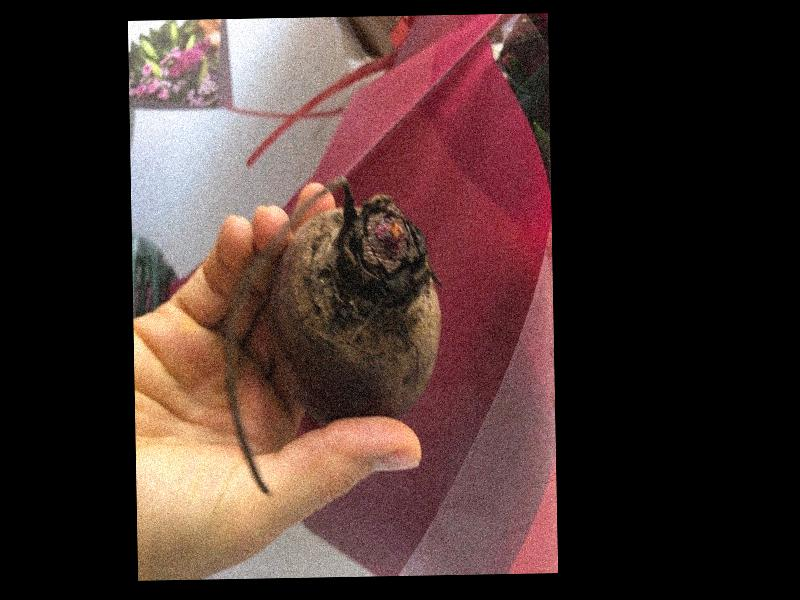Beet: (223, 172, 444, 496)
